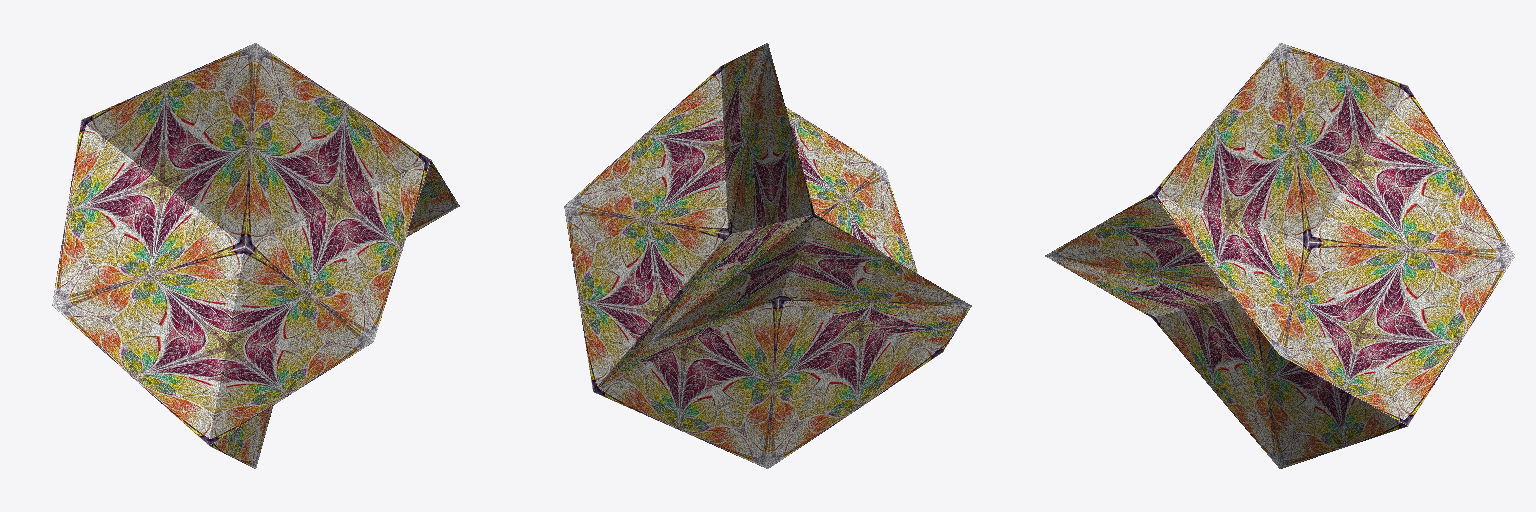
The picture shows the model from 3 angles: view 1: azimuth 30°, elevation 25°; view 2: azimuth 150°, elevation 25°; view 3: azimuth 270°, elevation 25°; orthographic projection.
Size of the model in its own units: 2.24 by 2.24 by 2.24.
Materials: 1 (1 with a texture image).